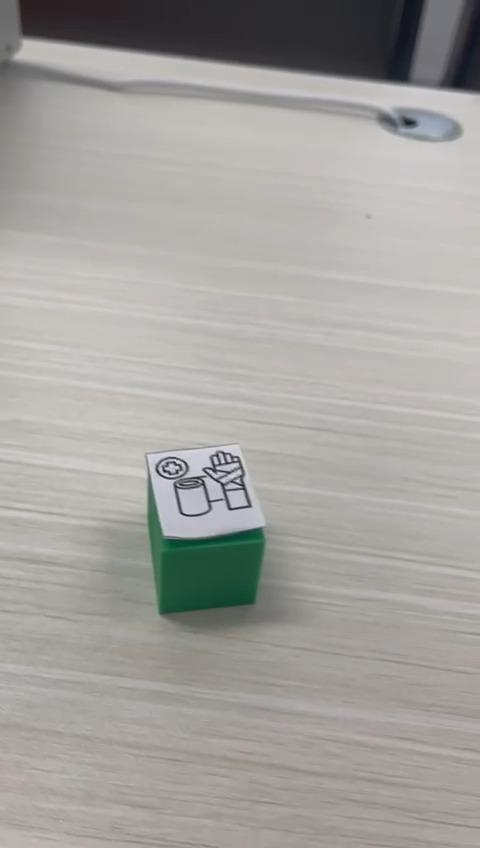Bandages: (147, 443, 268, 616)
